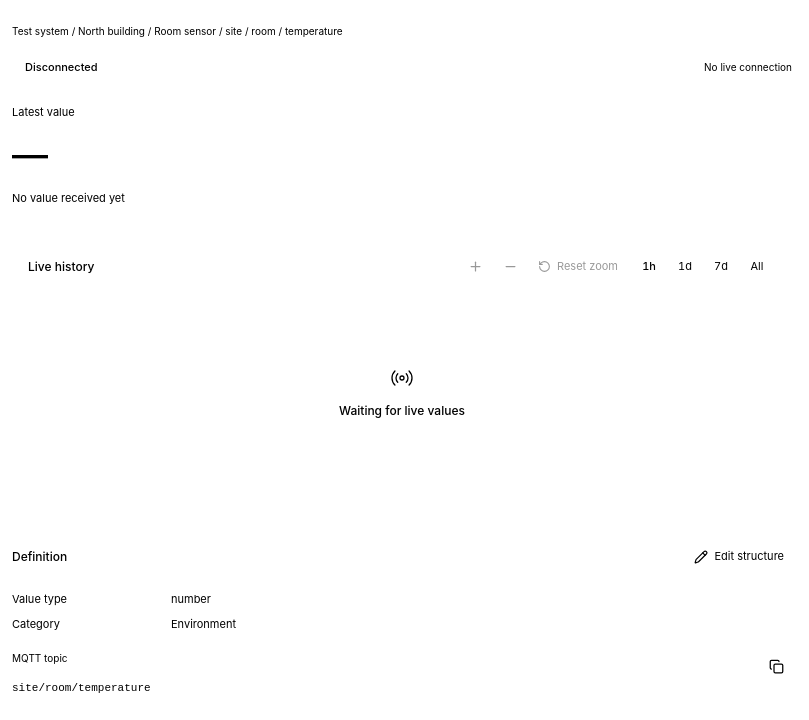
Test: explorer selected-object preview › reports clipboard failure and clears it after a successful retry
(page scrolled)
Click the button named "Copy mqtt topic" at (776, 666), box [760,650,792,682]
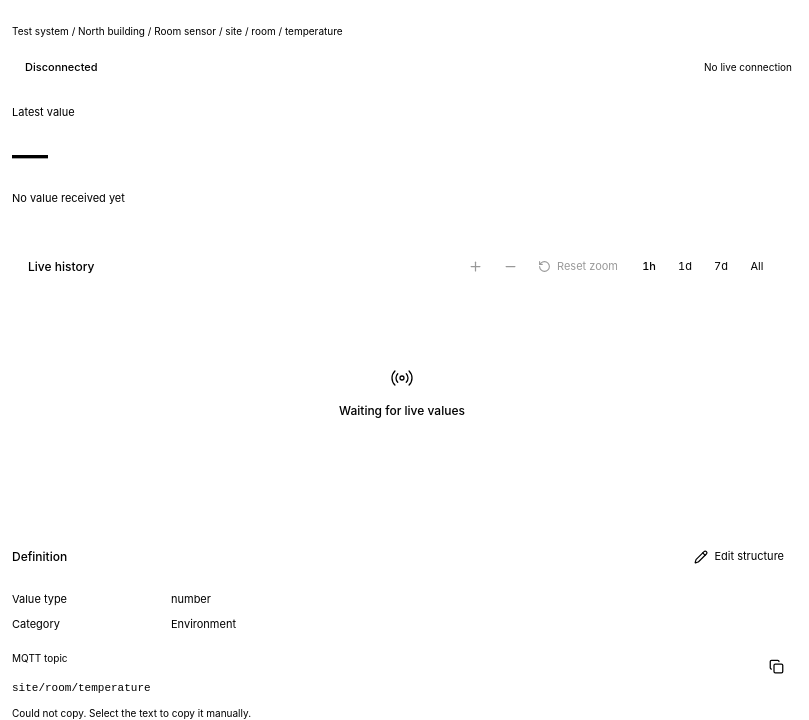
Now the message "Could not copy. Select the text to copy it manually." is shown, box [12,707,251,719]
Click the button named "Copy mqtt topic" at (776, 666), box [760,650,792,682]
(page scrolled)
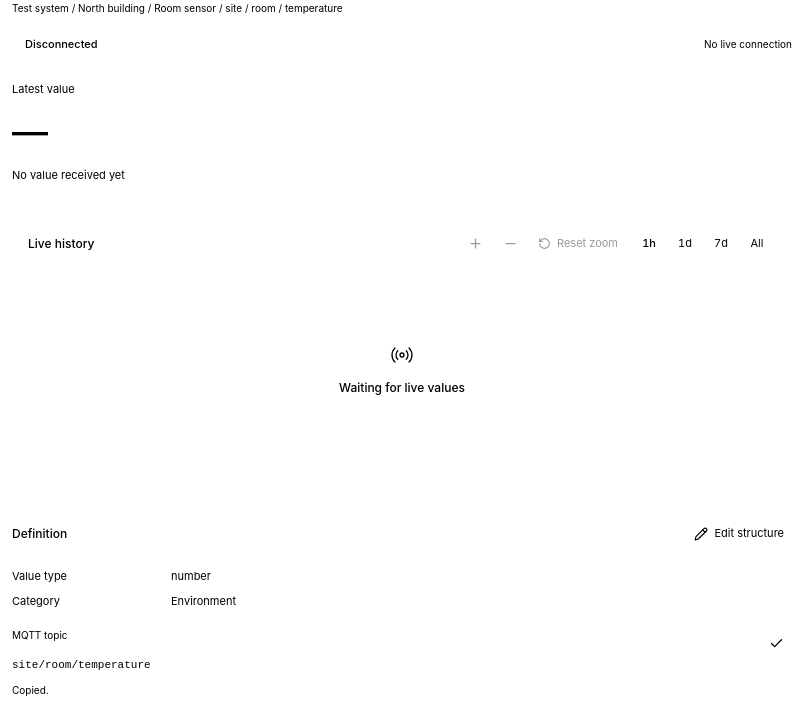
Now the text "Copied." is shown, box [12,684,49,696]
